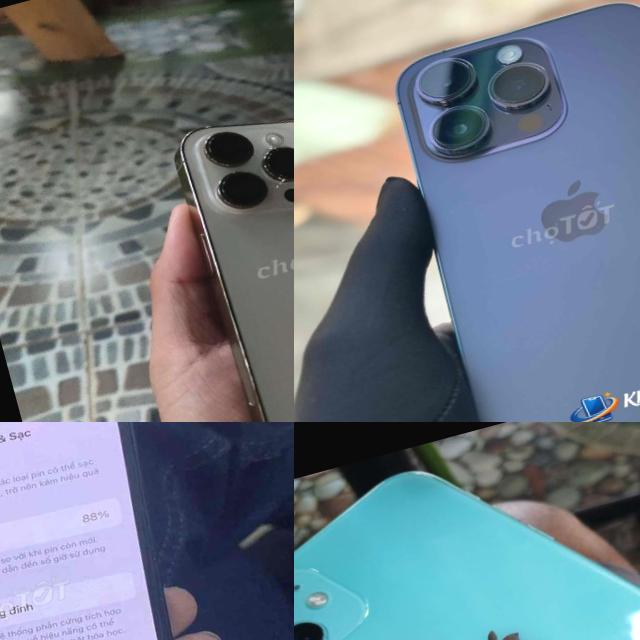gen_11: (294, 472, 640, 640)
gen_14: (376, 0, 640, 422), (0, 422, 259, 640), (151, 41, 294, 422)
